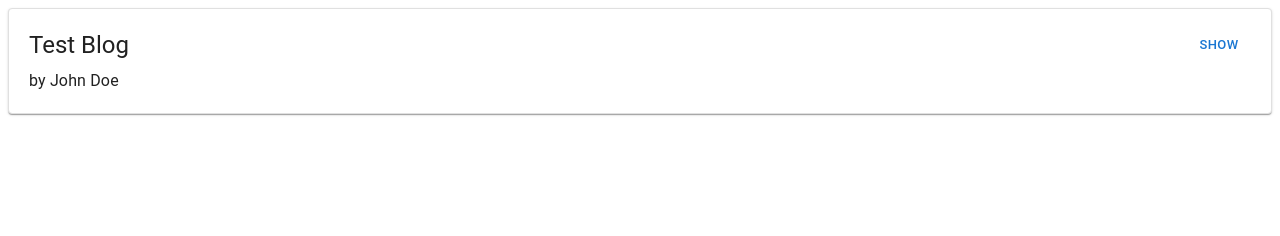
Test case: shows only the Like action to a logged-in user who did not create the blog
The width and height of the screenshot is (1280, 236).
Later steps or results of the test are not shown.
Click the button "Show": (1219, 45) [1187,30,1251,60]
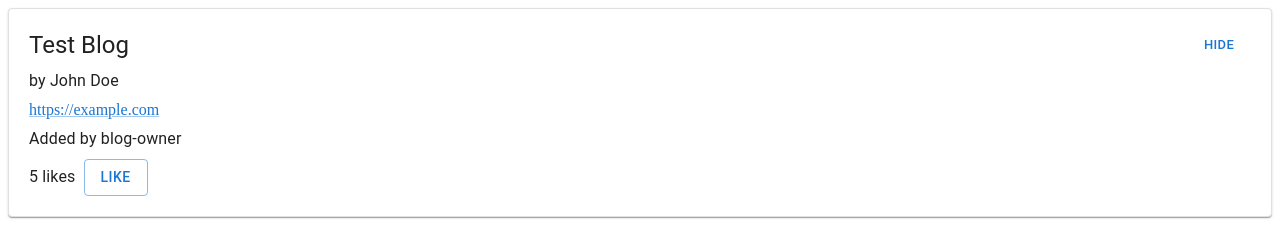
Check: the button "Like" is shown, box [84,159,148,196]
Check: the text "5 likes" is shown, box [29,165,76,189]
